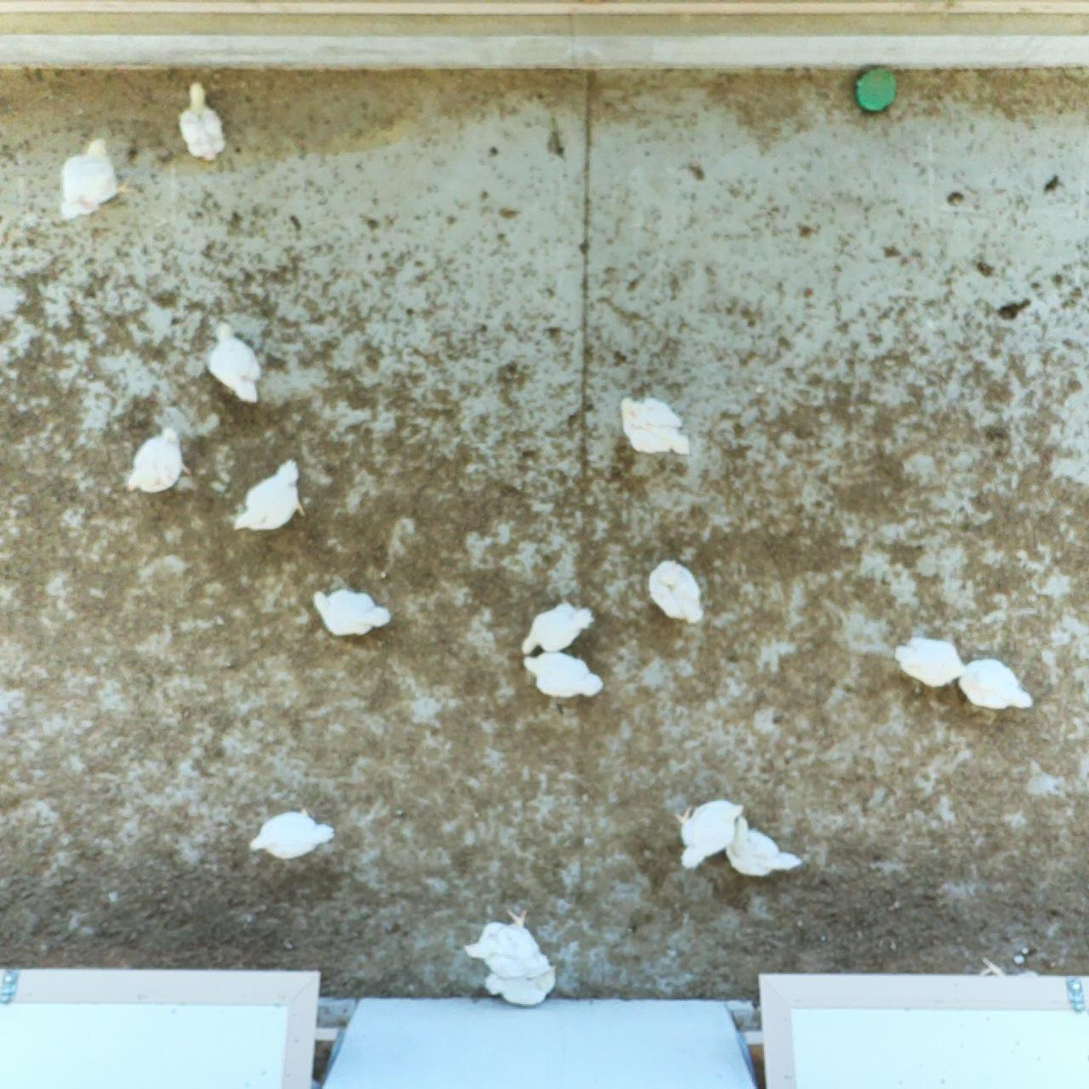chicken: (228, 452, 311, 538), (56, 134, 137, 222), (461, 907, 554, 981), (246, 800, 339, 864), (201, 318, 267, 407), (674, 797, 747, 873), (613, 392, 694, 460), (723, 812, 806, 878), (121, 425, 194, 500), (517, 594, 601, 659), (172, 76, 234, 164), (307, 584, 399, 639), (957, 656, 1036, 719), (644, 556, 709, 632), (520, 648, 607, 703), (889, 630, 968, 690), (480, 960, 561, 1008)
